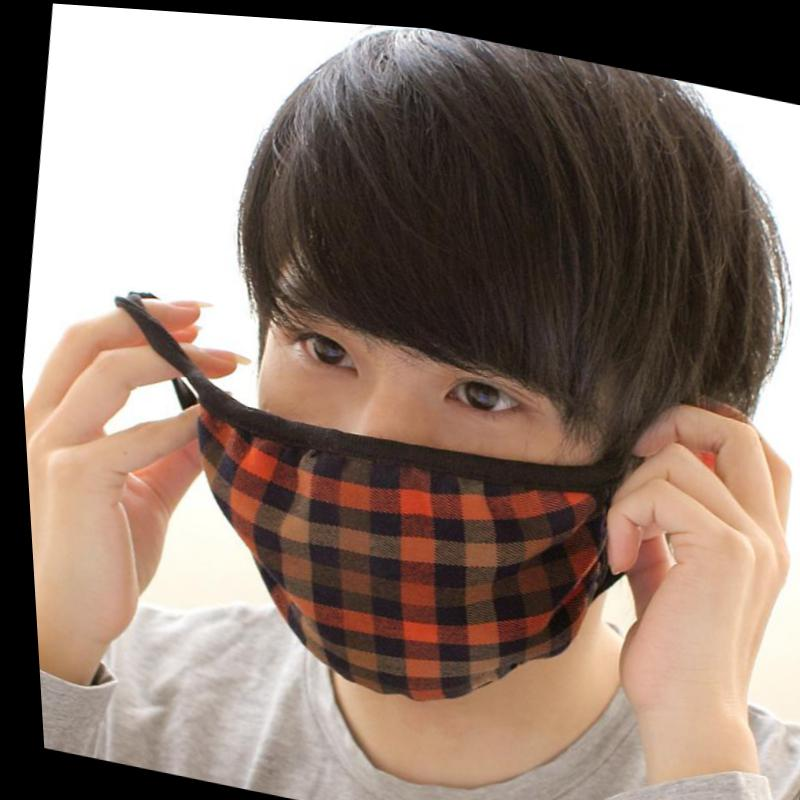WRONG: (191, 251, 659, 712)
